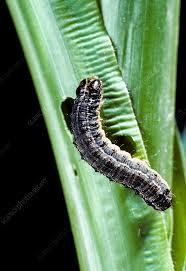fallarmy_worm: (66, 70, 178, 219)
